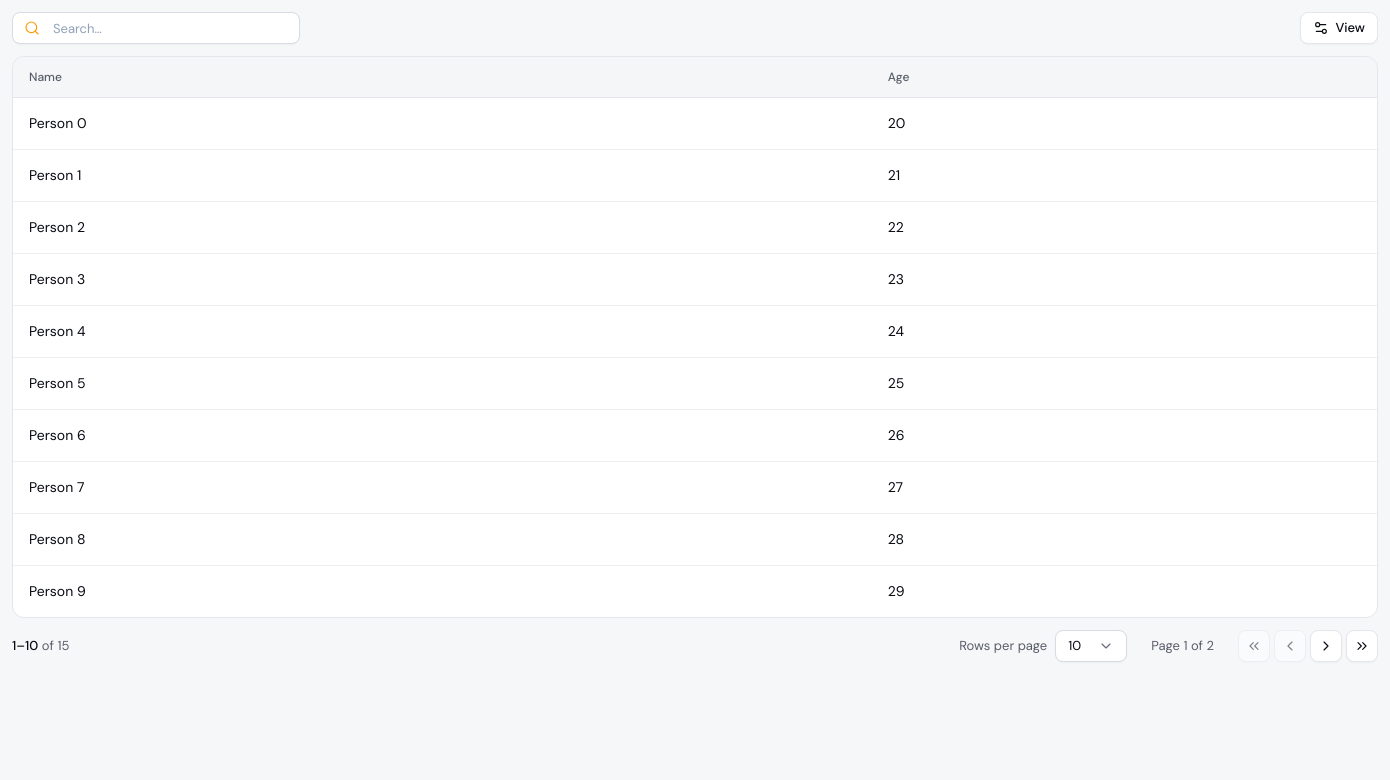
Test: DataTable › filters with the search box and offers a reset
Step 1. Type "Person 14" into the search field labelled "Search" → (156, 28), box [12,12,300,44]
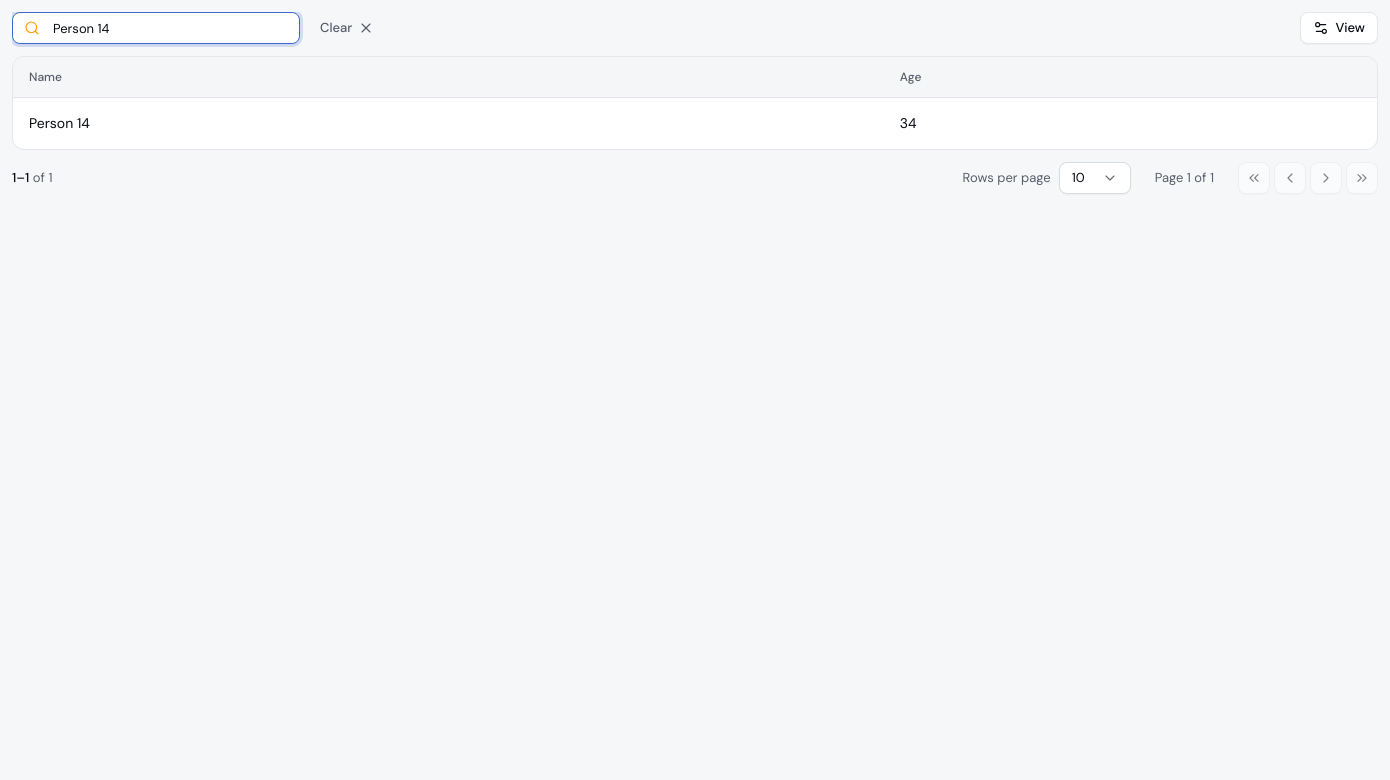
Expected: the number of rows is 2, [13,57,1377,97]; [13,97,1377,149]
Expected: the button "Clear" is shown, [308,12,386,44]
